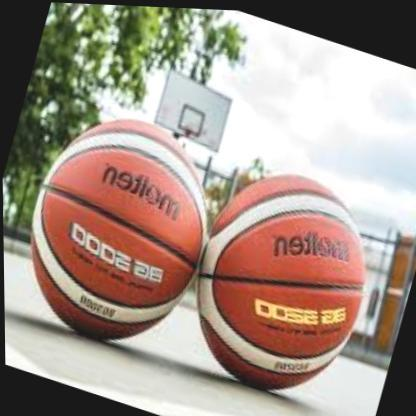basketball: (5, 93, 232, 358), (173, 148, 390, 405)
